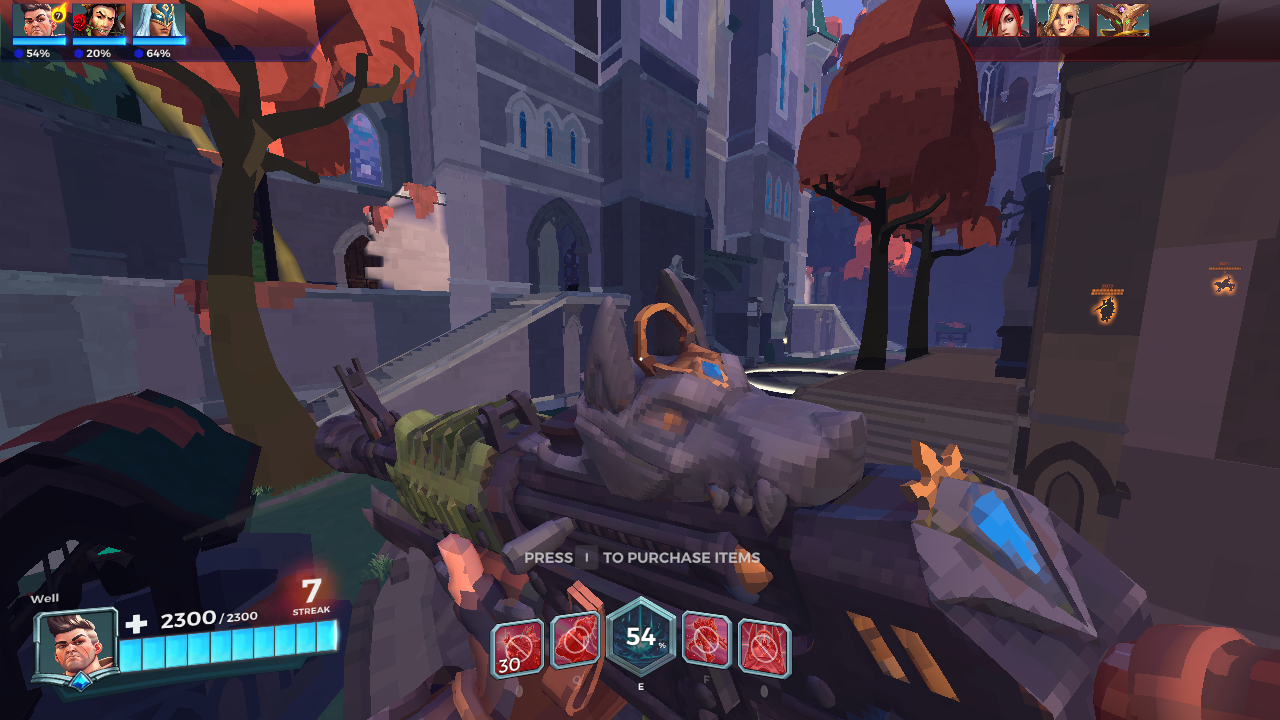model: (1092, 299, 1116, 323), (1212, 277, 1238, 295)
